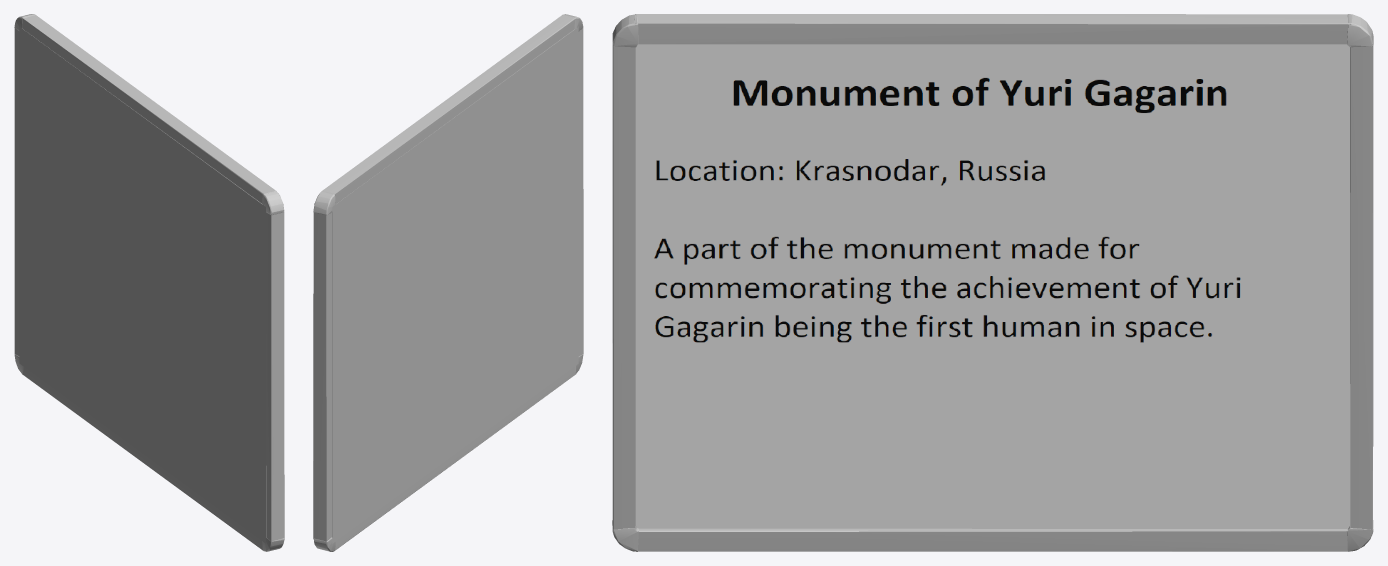
Rendered from sign lowpoly.obj.
The picture shows the model from 3 angles, left to right: view 1: azimuth 30°, elevation 25°; view 2: azimuth 150°, elevation 25°; view 3: azimuth 270°, elevation 25°; orthographic projection. The views are drawn at different scales.
Parts seen in each view (by area): view 1: 009_Box_4, 000_Box_2_-_baked_1, 002_Box_1_-_baked_1, 003_Box_1_-_baked, 001_Box_2_-_baked, 004_Box_-_baked_1; view 2: 009_Box_4, 001_Box_2_-_baked, 002_Box_1_-_baked_1, 003_Box_1_-_baked, 000_Box_2_-_baked_1, 005_Box_-_baked_2; view 3: 008_Box_3, 002_Box_1_-_baked_1, 003_Box_1_-_baked, 000_Box_2_-_baked_1, 001_Box_2_-_baked.
Part boxes in pixels (x1,y1,x2,y2): 009_Box_4: [19, 27, 266, 543]; 000_Box_2_-_baked_1: [266, 211, 284, 542]; 002_Box_1_-_baked_1: [22, 15, 276, 203]; 003_Box_1_-_baked: [23, 366, 262, 550]; 001_Box_2_-_baked: [14, 28, 19, 355]; 004_Box_-_baked_1: [262, 190, 284, 214]; 009_Box_4: [332, 27, 578, 543]; 001_Box_2_-_baked: [313, 212, 331, 542]; 002_Box_1_-_baked_1: [322, 15, 575, 203]; 003_Box_1_-_baked: [335, 366, 575, 550]; 000_Box_2_-_baked_1: [578, 28, 583, 356]; 005_Box_-_baked_2: [313, 190, 335, 215]; 008_Box_3: [635, 44, 1350, 528]; 002_Box_1_-_baked_1: [634, 14, 1351, 44]; 003_Box_1_-_baked: [634, 528, 1350, 551]; 000_Box_2_-_baked_1: [612, 43, 635, 529]; 001_Box_2_-_baked: [1350, 44, 1373, 530].
Size of the model in its own units: 20 by 488 by 636.
